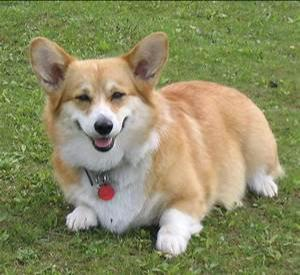dog: (27, 30, 285, 256)
